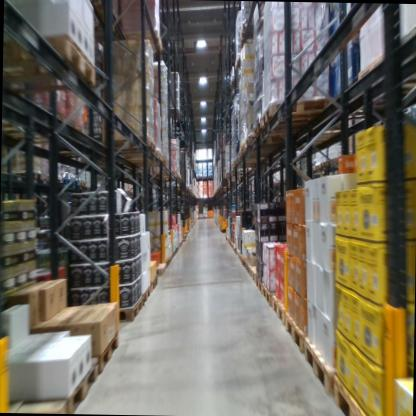pallet: (4, 33, 99, 98), (359, 23, 416, 105), (261, 89, 339, 131), (51, 354, 106, 413), (301, 334, 342, 399), (335, 374, 397, 416), (246, 126, 314, 150), (254, 114, 318, 138), (283, 312, 317, 353), (94, 331, 119, 386), (122, 22, 163, 52), (262, 281, 285, 333), (112, 130, 157, 155), (113, 144, 165, 164), (114, 295, 142, 326), (238, 142, 286, 160), (238, 17, 262, 46), (247, 262, 272, 287), (237, 141, 278, 154), (11, 166, 44, 180), (233, 159, 262, 170), (138, 283, 150, 306), (231, 162, 255, 172), (149, 263, 166, 277), (235, 154, 259, 163), (146, 275, 159, 291), (241, 254, 251, 269), (326, 155, 338, 167), (256, 276, 264, 294), (304, 163, 314, 175), (319, 159, 328, 171), (71, 175, 80, 187), (77, 179, 88, 188), (244, 260, 249, 277), (314, 161, 321, 173), (238, 252, 242, 264)
